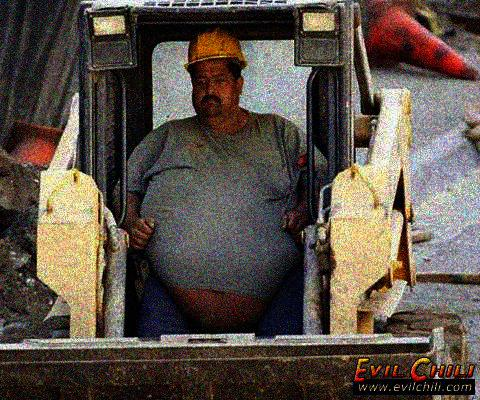helmet: (183, 26, 248, 119)
